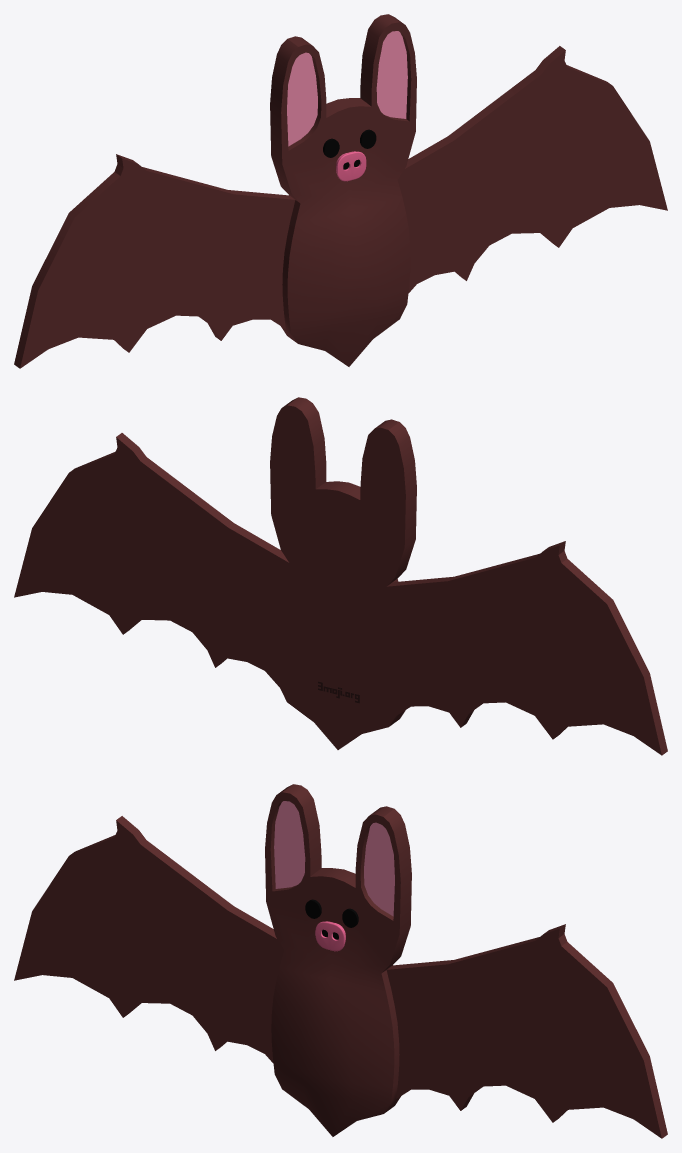
File: bat.glb
The picture shows the model from 3 angles, top to bottom: view 1: azimuth 30°, elevation 25°; view 2: azimuth 150°, elevation 25°; view 3: azimuth 330°, elevation 25°; orthographic projection.
Visible parts, largest first — view 1: Cube.6249, Cube.6250, Circle.1924; view 2: Cube.6249; view 3: Cube.6249, Cube.6250, Circle.1924.
Part boxes in pixels (x1,y1,x2,y2): Cube.6249: (14,14,667,368); Cube.6250: (336,151,366,181); Circle.1924: (323,129,376,157); Cube.6249: (14,397,667,755); Cube.6249: (14,784,667,1138); Cube.6250: (315,921,345,951); Circle.1924: (305,899,358,927).
Bounding box in the file's own units: 2.37 × 1.16 × 0.1217.
1 material, 1 textured.
